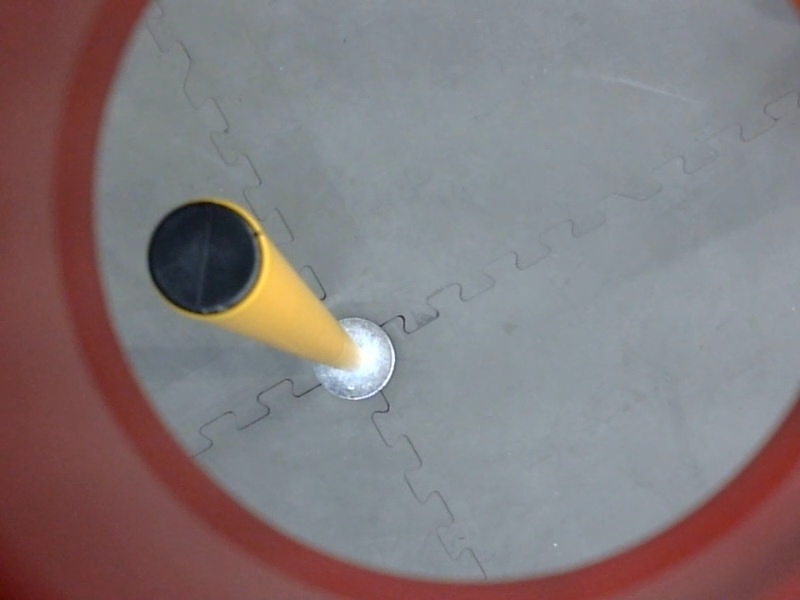tip: (137, 189, 267, 329)
